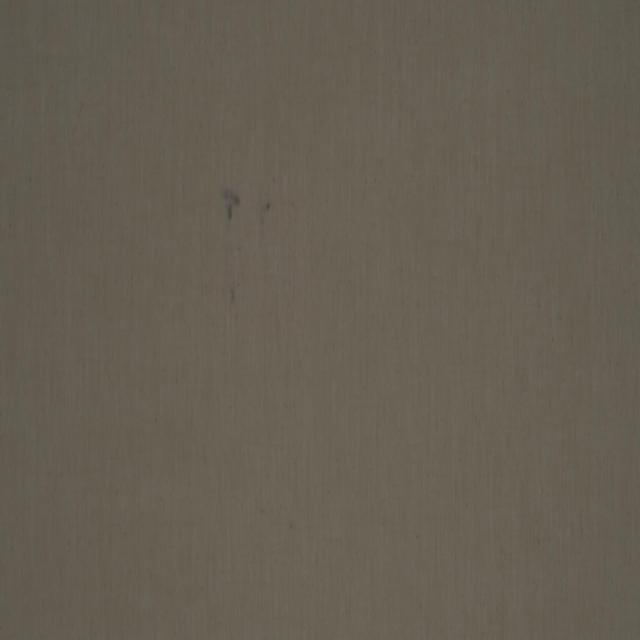dirty: (224, 190, 240, 222), (231, 289, 237, 305), (266, 202, 271, 213), (238, 282, 240, 288)
